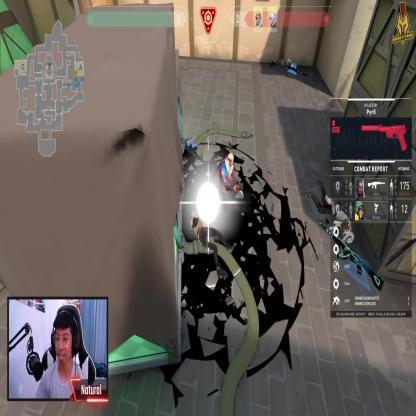enemy: (216, 152, 242, 214)
enemy_head: (228, 152, 233, 167)
